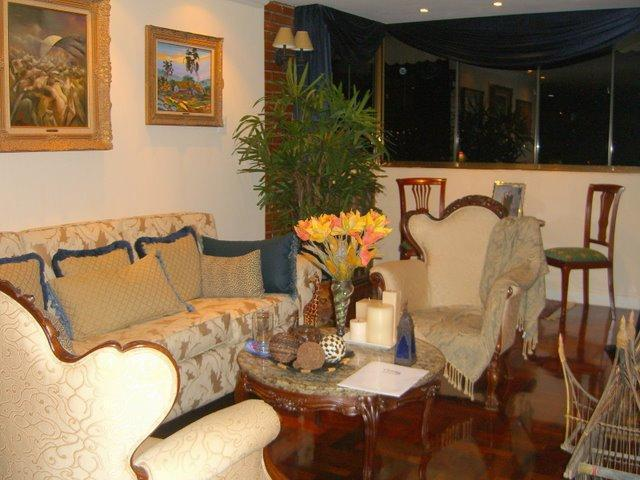Matera: (260, 95, 378, 304)
Ventana: (379, 28, 638, 173), (306, 15, 380, 166)
